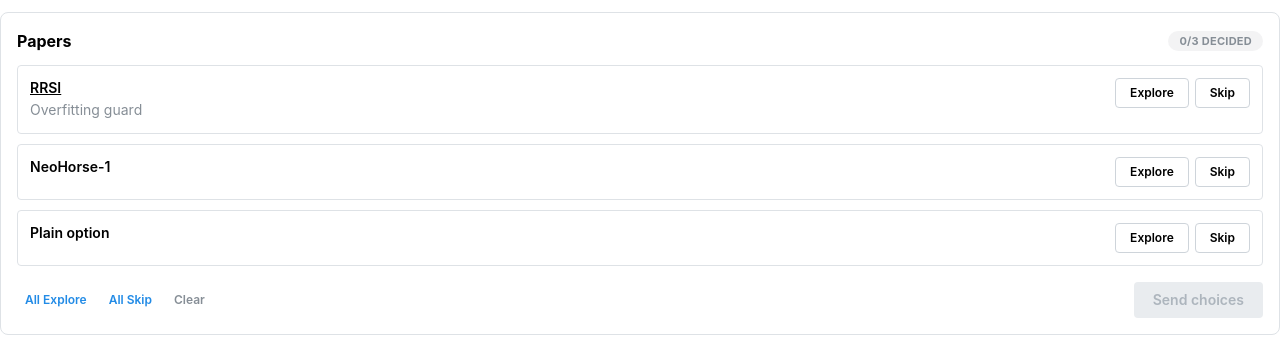
it: picker in Markdown › toggles a choice off and disables sending while the session cannot accept a prompt
Click the button "Explore" in the row of "Overfitting guard" at x=1152, y=93, box [1115,78,1189,108]
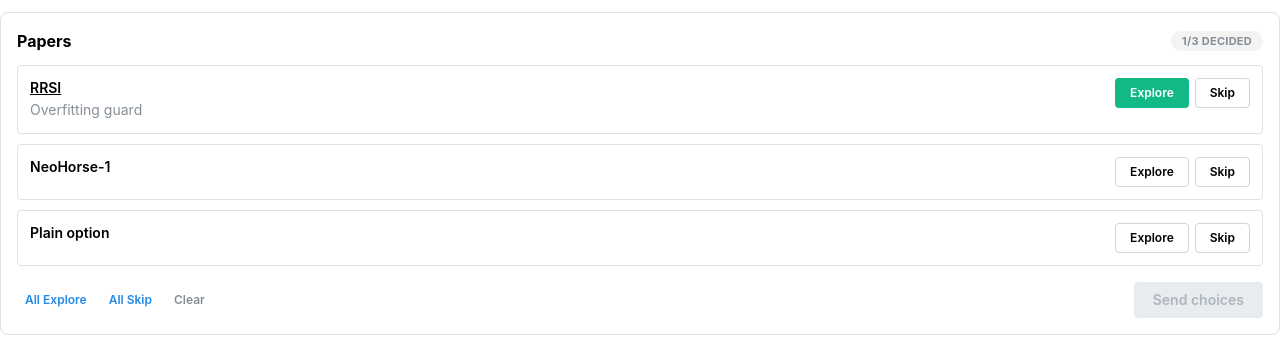
Click the button "Explore" in the row of "Overfitting guard" at x=1152, y=93, box [1115,78,1189,108]
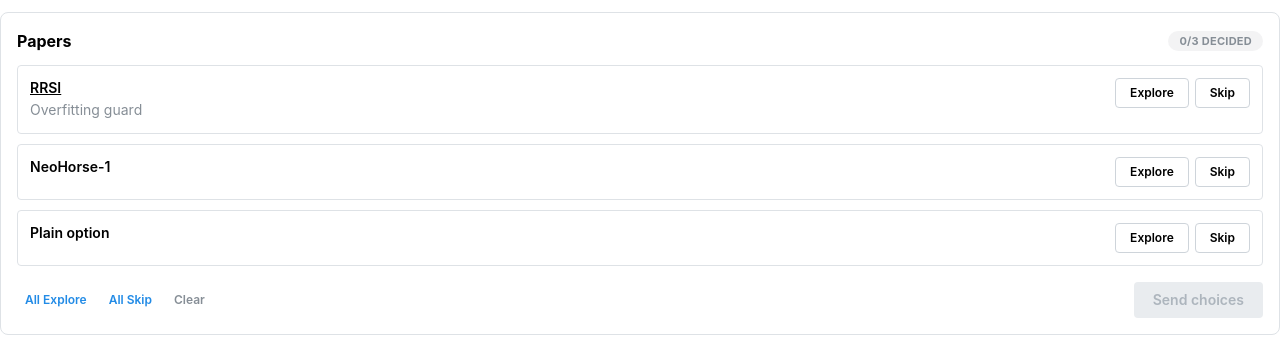
Result: the button "Explore" in the row of "Overfitting guard" is not pressed at [1115,78,1189,108]
Click the button "All Explore" at x=56, y=300, box [17,289,95,311]
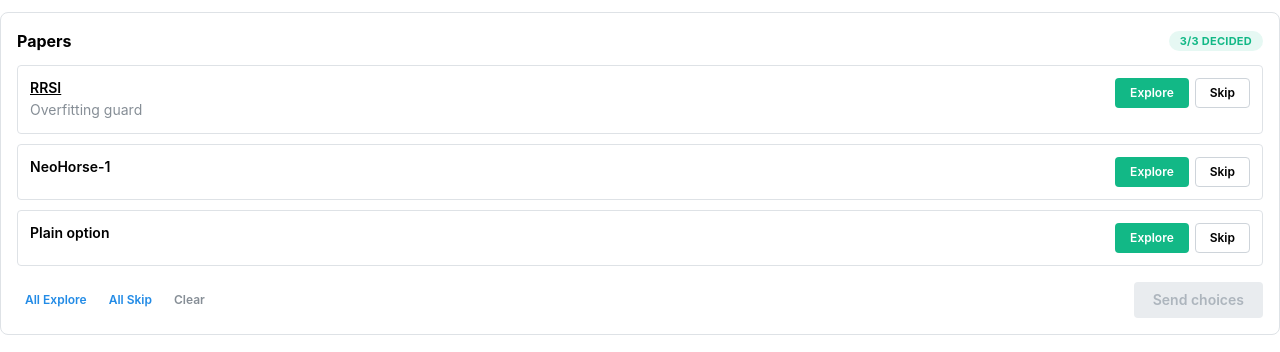
Expected: the button "Send choices" is disabled, [1134,282,1263,318]
Result: the text "3/3 decided" is shown at [1180,32,1252,50]
